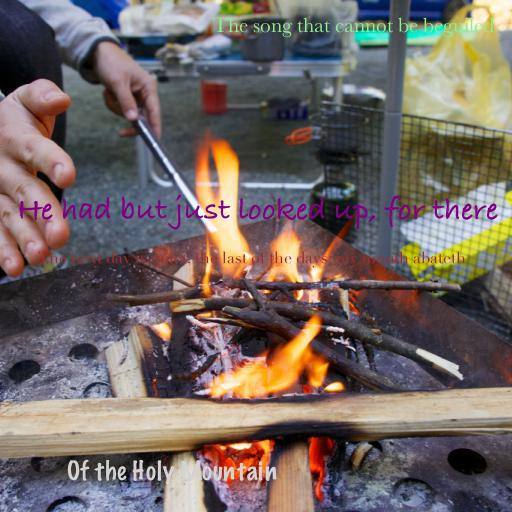Baskerville: (212, 17, 494, 38)
Bradley Hand: (16, 194, 498, 230)
Didot: (38, 251, 466, 268)
Marker Felt: (66, 459, 276, 485)
